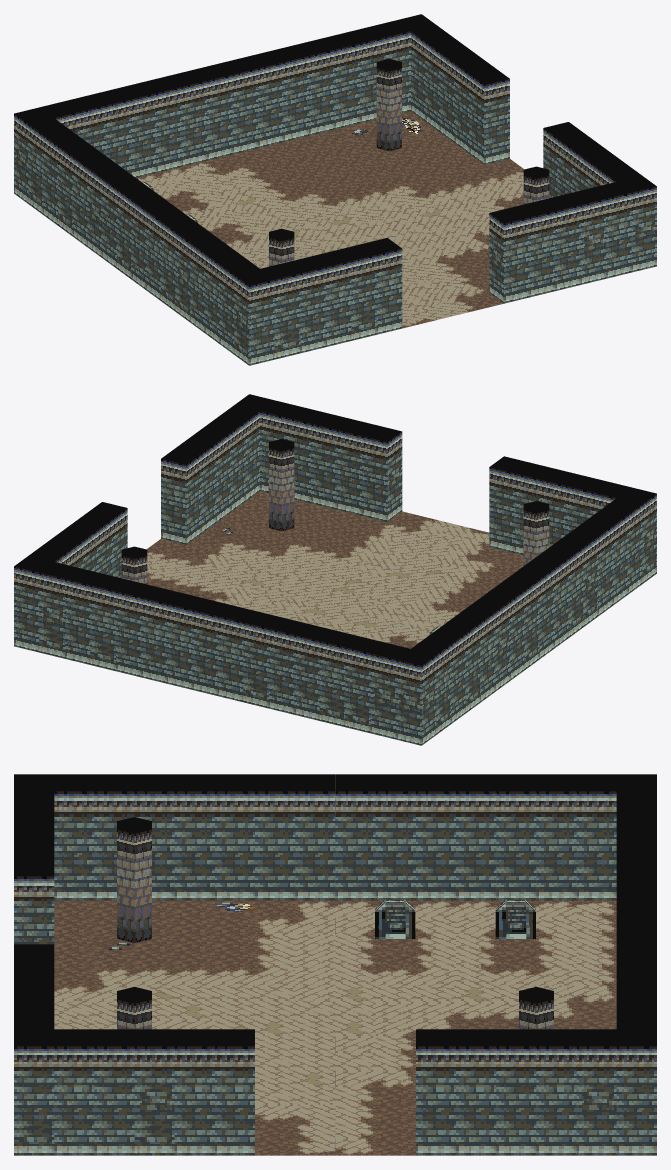
File: room-se-col.gltf
3 renders of one model, top to bottom at view 1: azimuth 30°, elevation 25°; view 2: azimuth 150°, elevation 25°; view 3: azimuth 270°, elevation 25°, orthographic. The views are drawn at different scales.
Visible parts, largest first — view 1: room-se-col; view 2: room-se-col; view 3: room-se-col.
Boxes of the visible parts, x1,y1,x2,y2 form: room-se-col: (14,14,656,365); room-se-col: (14,394,656,745); room-se-col: (14,774,656,1155).
Size of the model in its own units: 16 by 3 by 16.
1 material, 1 textured.
